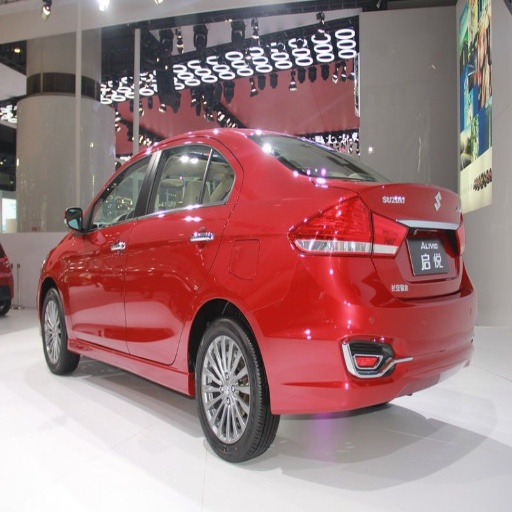back_bumper: (257, 295, 473, 414)
back_glass: (255, 135, 370, 179)
back_left_door: (127, 136, 240, 364)
tailgate: (362, 183, 460, 280)
trunk: (338, 218, 462, 369)
